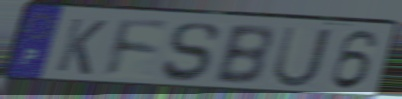6: (328, 28, 380, 92)
B: (211, 23, 275, 87)
F: (104, 16, 172, 80)
K: (53, 16, 110, 77)
S: (159, 21, 222, 84)
U: (269, 24, 335, 89)
